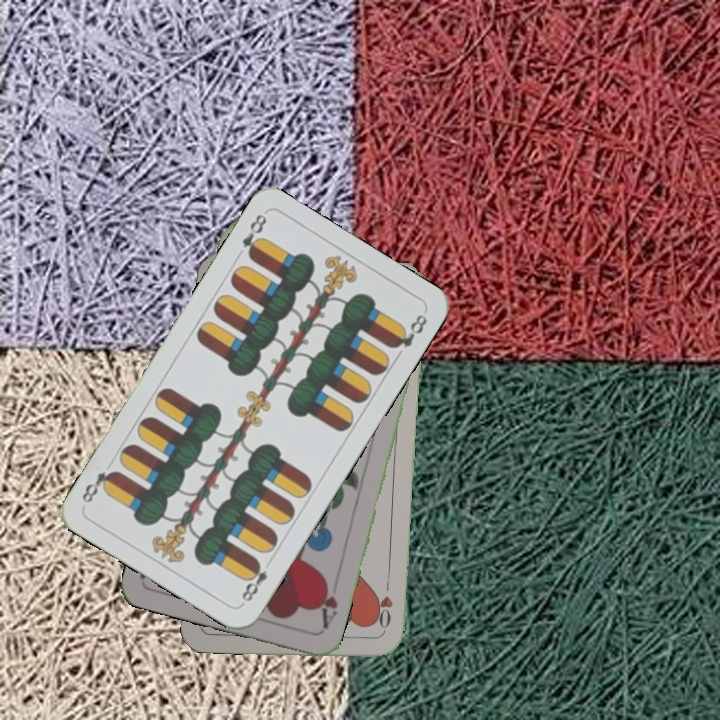E8: (237, 555, 276, 607), (237, 209, 270, 262)
HA: (314, 575, 341, 632)
HO: (374, 576, 396, 635)
